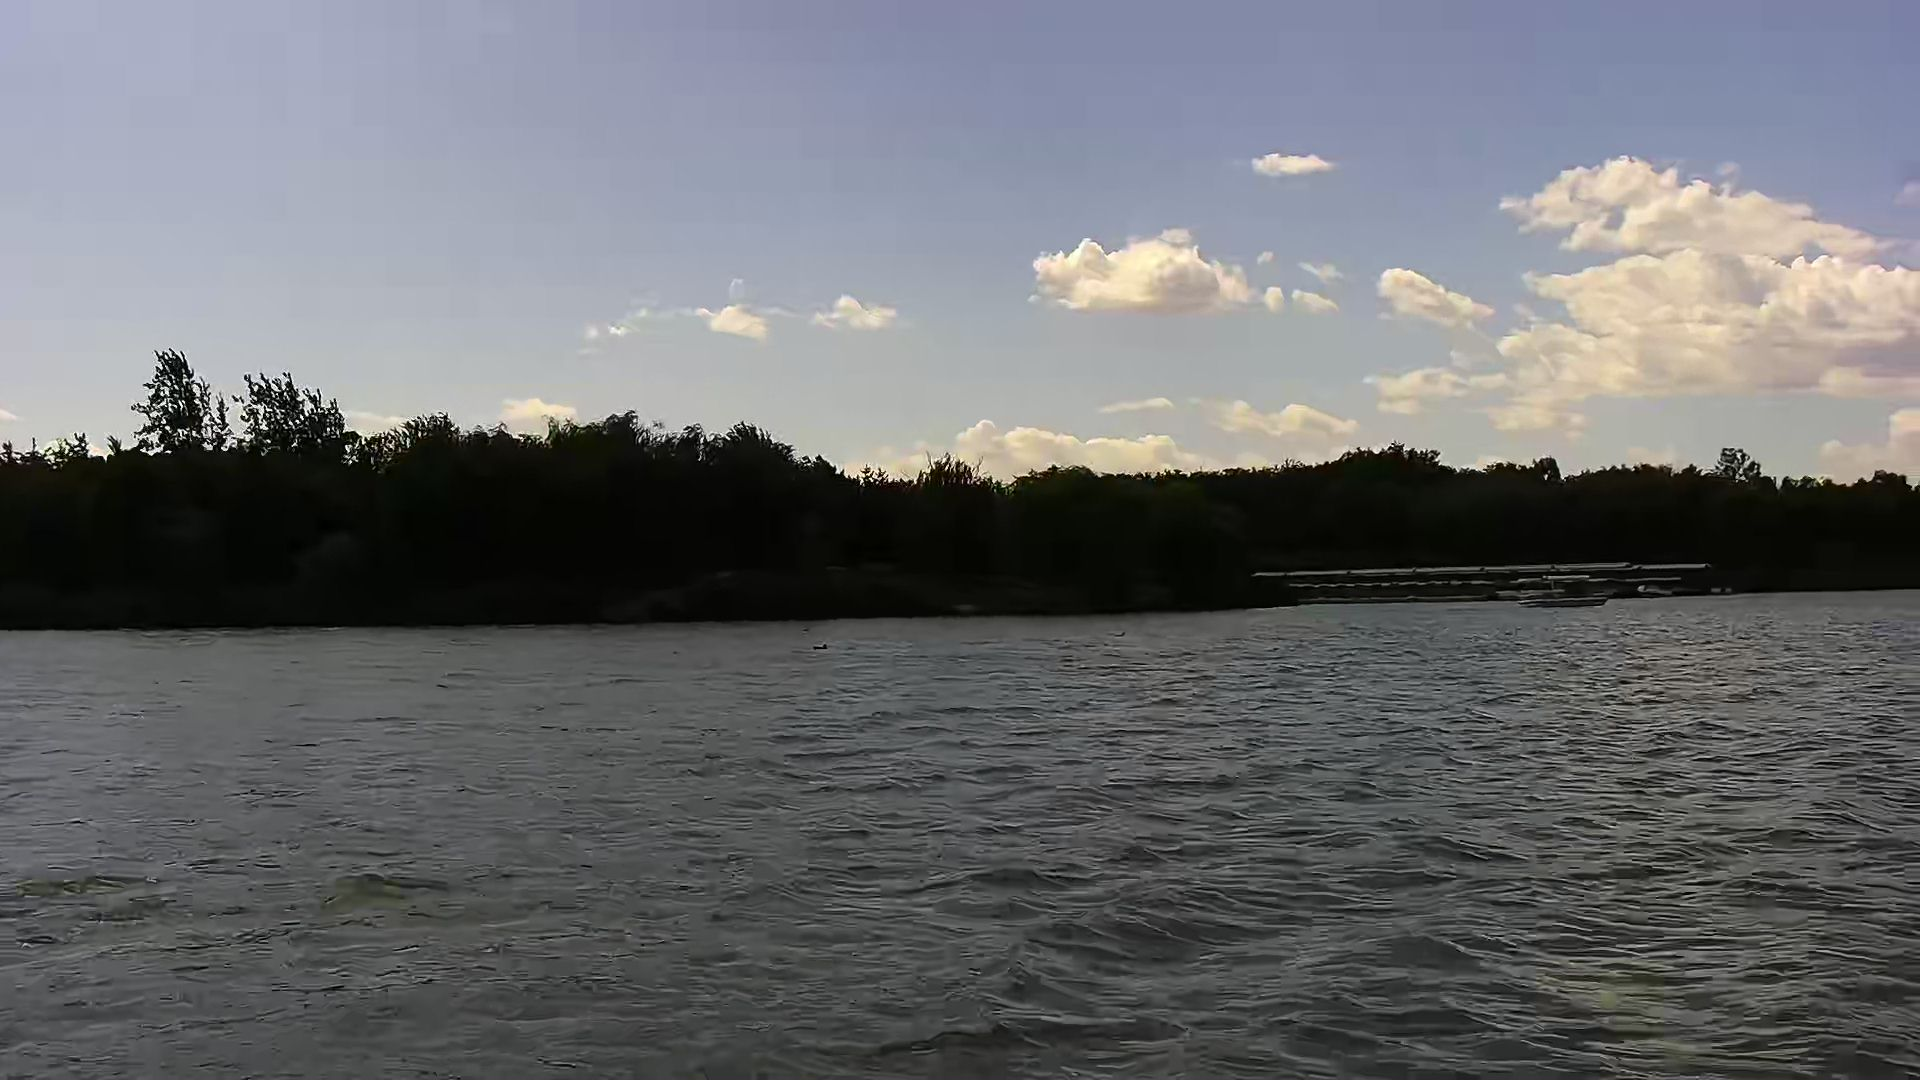boat: (1513, 571, 1615, 612)
harbor: (1249, 564, 1753, 604)
